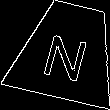N_N: (40, 22, 94, 81)
